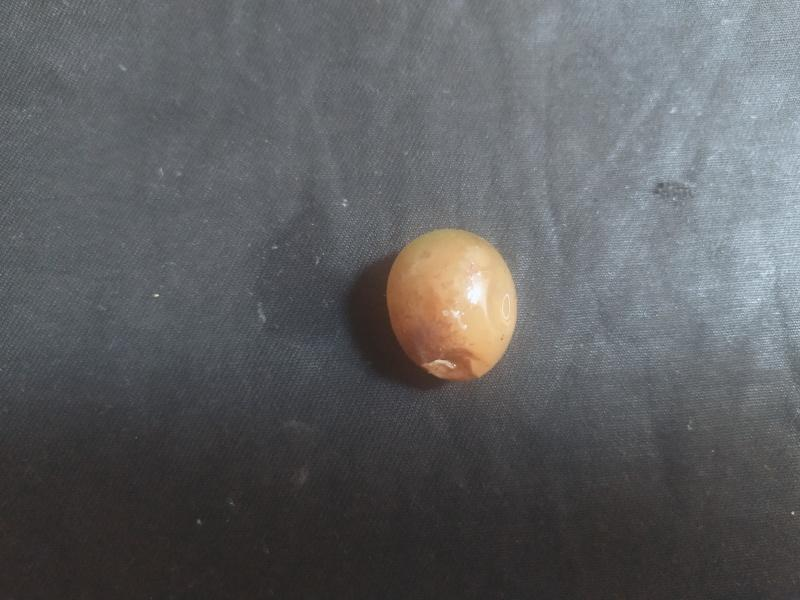Grape Rotten: (387, 228, 518, 382)
